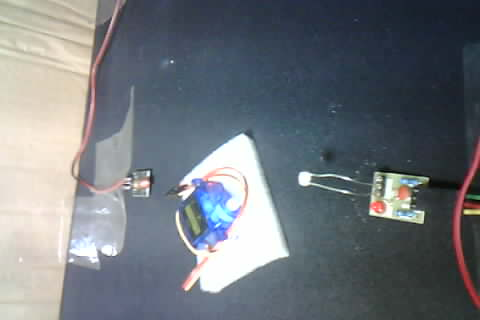motor: (162, 148, 262, 302)
